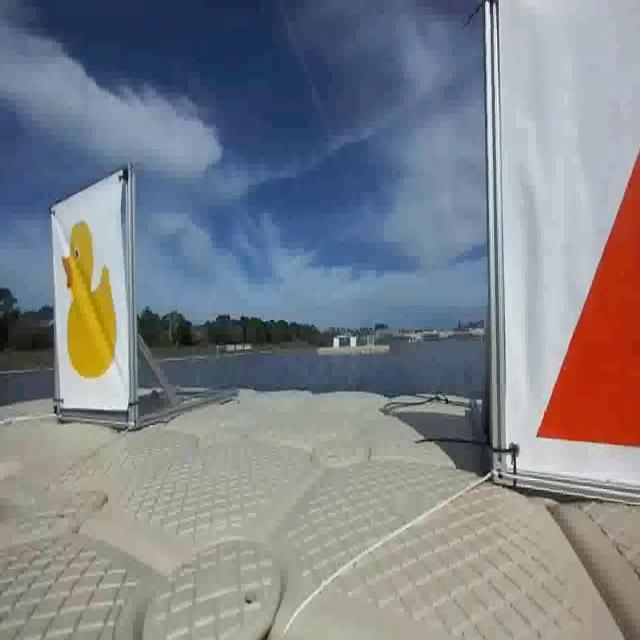red-dot: (483, 4, 640, 478)
yellow-duck: (53, 200, 132, 396)
